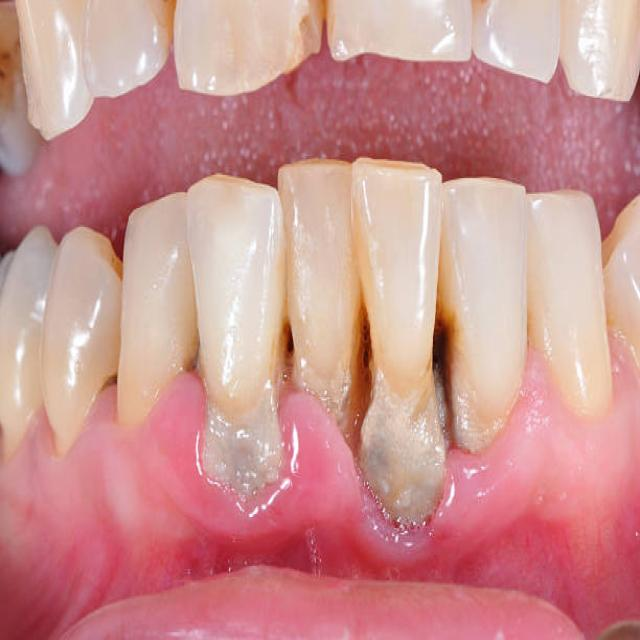caries: (286, 0, 360, 106), (339, 296, 383, 382), (421, 296, 460, 378), (271, 302, 303, 362)
